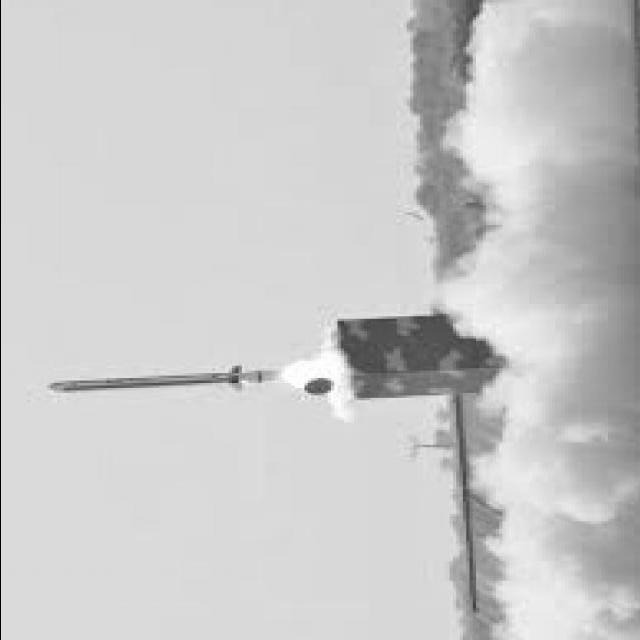missile: (42, 363, 247, 396)
